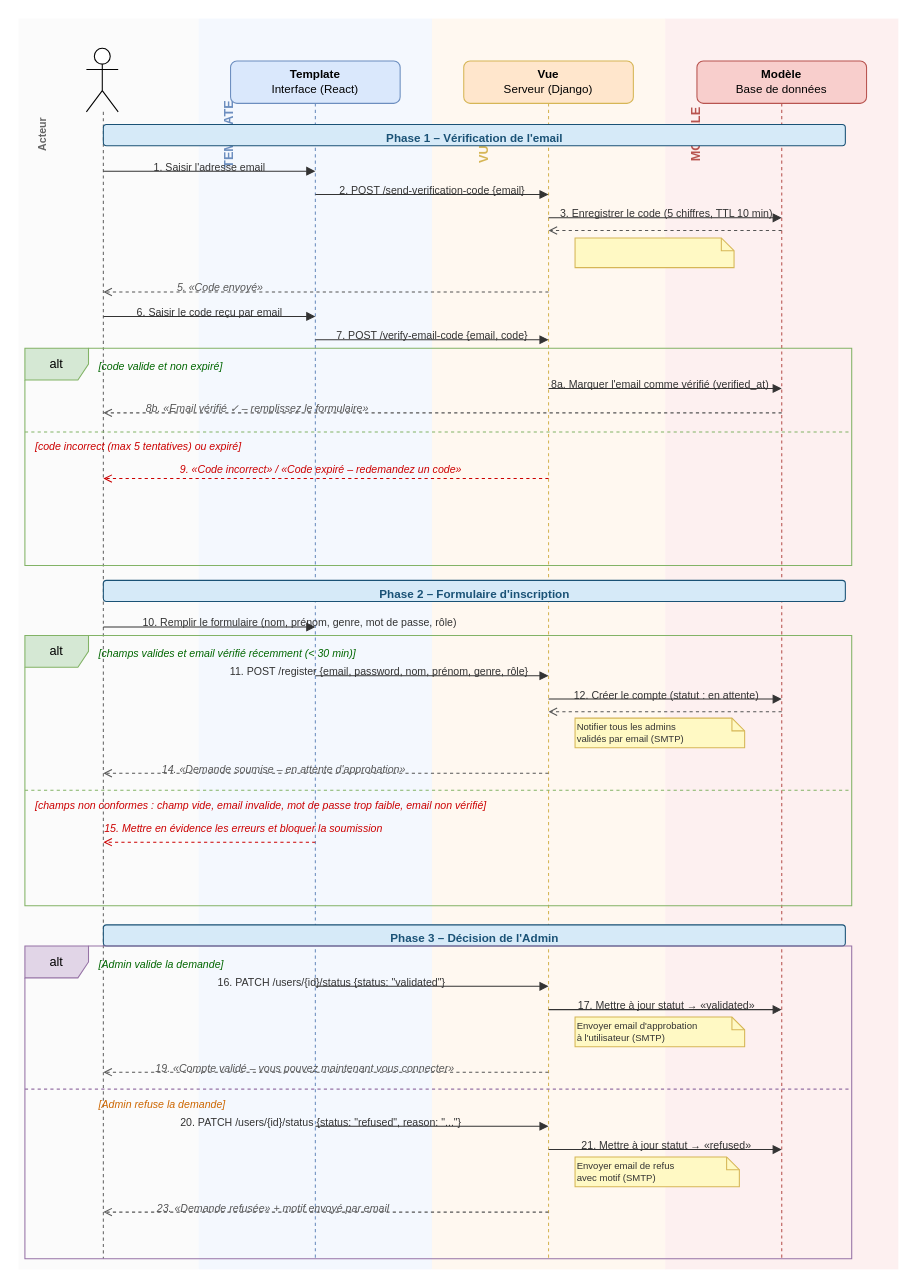
This 916x1287 diagram has some shape labels left out. Here are the shapes that lost their labels. From the top down, the centre of each, then its label:
At pixel 101 79: "Utilisateur".
At pixel 654 252: "Envoi email SMTP avec le code à 5 chiffres".
